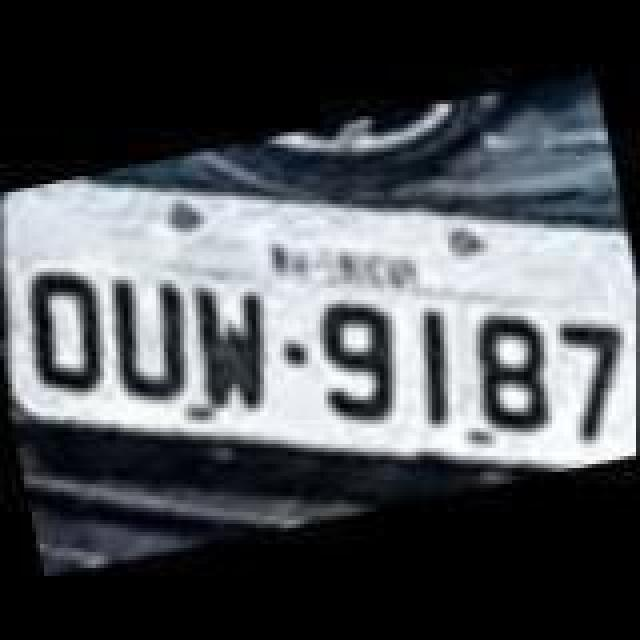1: (394, 296, 466, 428)
7: (546, 306, 634, 454)
8: (464, 304, 564, 440)
9: (306, 288, 410, 428)
O: (8, 254, 116, 402)
U: (96, 262, 204, 410)
W: (176, 270, 292, 422)
